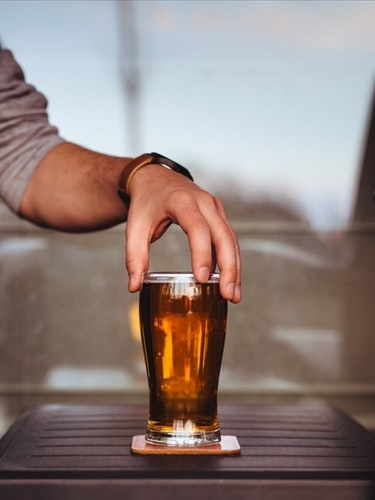whiskey: (147, 261, 235, 430)
